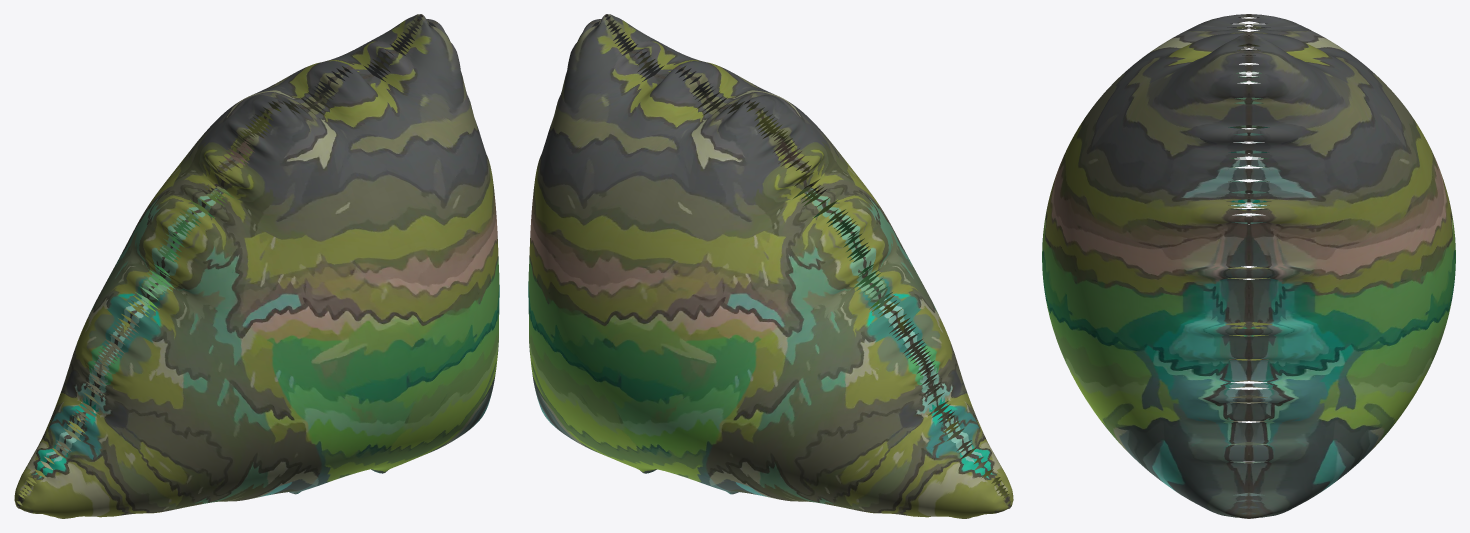
The model's file is layered_cliff.glb.
3 views of the same model, side by side, from view 1: azimuth 30°, elevation 25°; view 2: azimuth 150°, elevation 25°; view 3: azimuth 270°, elevation 25° (orthographic). The views are drawn at different scales.
Parts seen in each view (by area): view 1: layered_cliff; view 2: layered_cliff; view 3: layered_cliff.
Boxes of the visible parts, <box> form: layered_cliff: <box>14,14,499,518</box>; layered_cliff: <box>528,14,1013,518</box>; layered_cliff: <box>1042,14,1455,518</box>.
Bounding box in the file's own units: 0.9849 × 0.8573 × 0.6728.
Materials: 1 (1 with a texture image).
